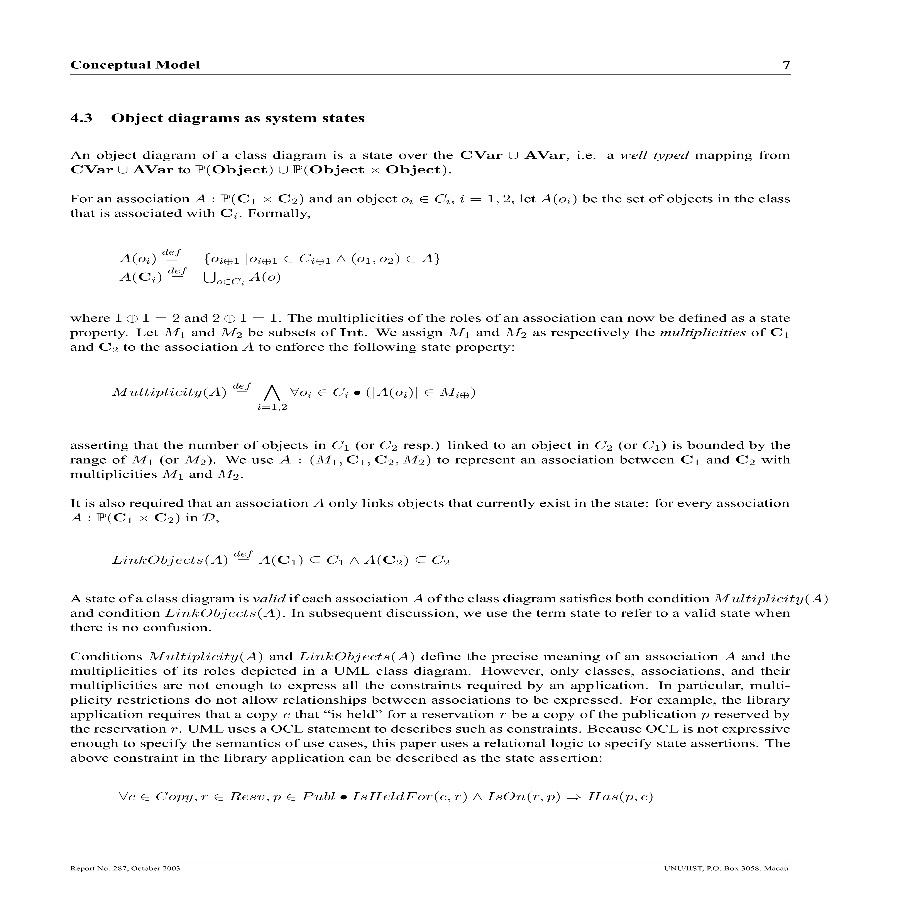eq: (111, 379, 478, 419), (114, 244, 445, 287), (115, 785, 661, 808), (112, 548, 451, 572)
